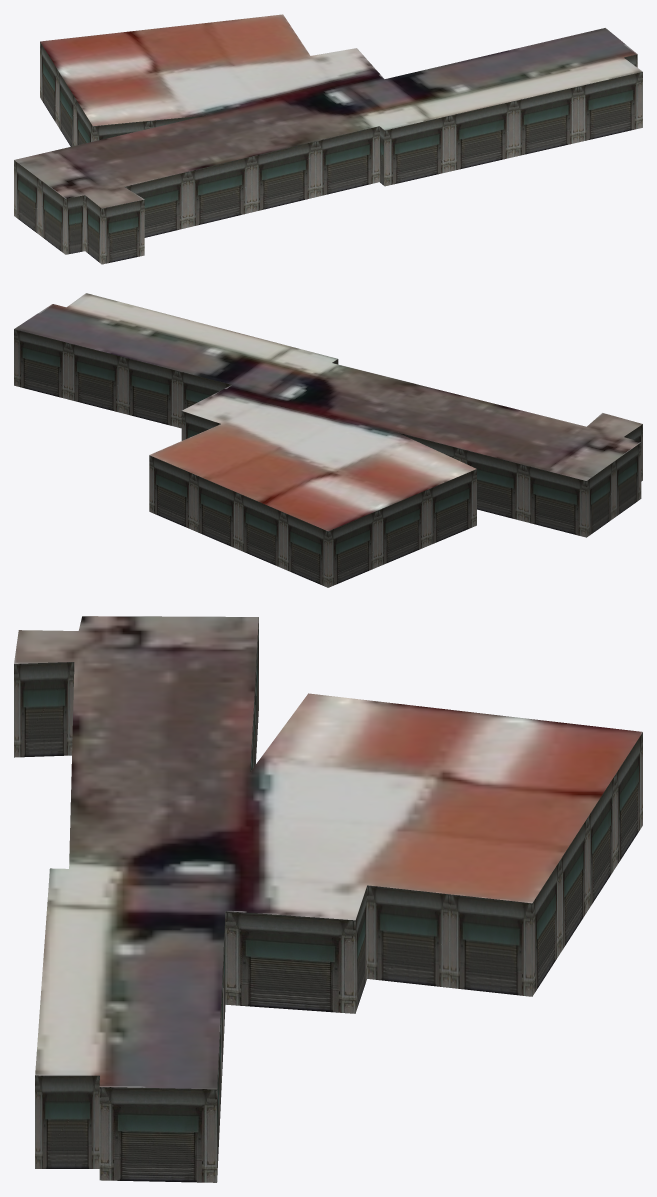
The picture shows the model from 3 angles, top to bottom: view 1: azimuth 30°, elevation 25°; view 2: azimuth 150°, elevation 25°; view 3: azimuth 270°, elevation 25°; orthographic projection. The views are drawn at different scales.
Parts seen in each view (by area): view 1: SketchUp (×9); view 2: SketchUp (×7); view 3: SketchUp (×9).
Part boxes in pixels (x1,y1,x2,y2): SketchUp (×9): (14,14,642,264); SketchUp (×7): (14,293,642,587); SketchUp (×9): (14,616,642,1182).
Bounding box in the file's own units: 50.02 × 28.09 × 4.61.
Materials: 2 (2 with a texture image).
